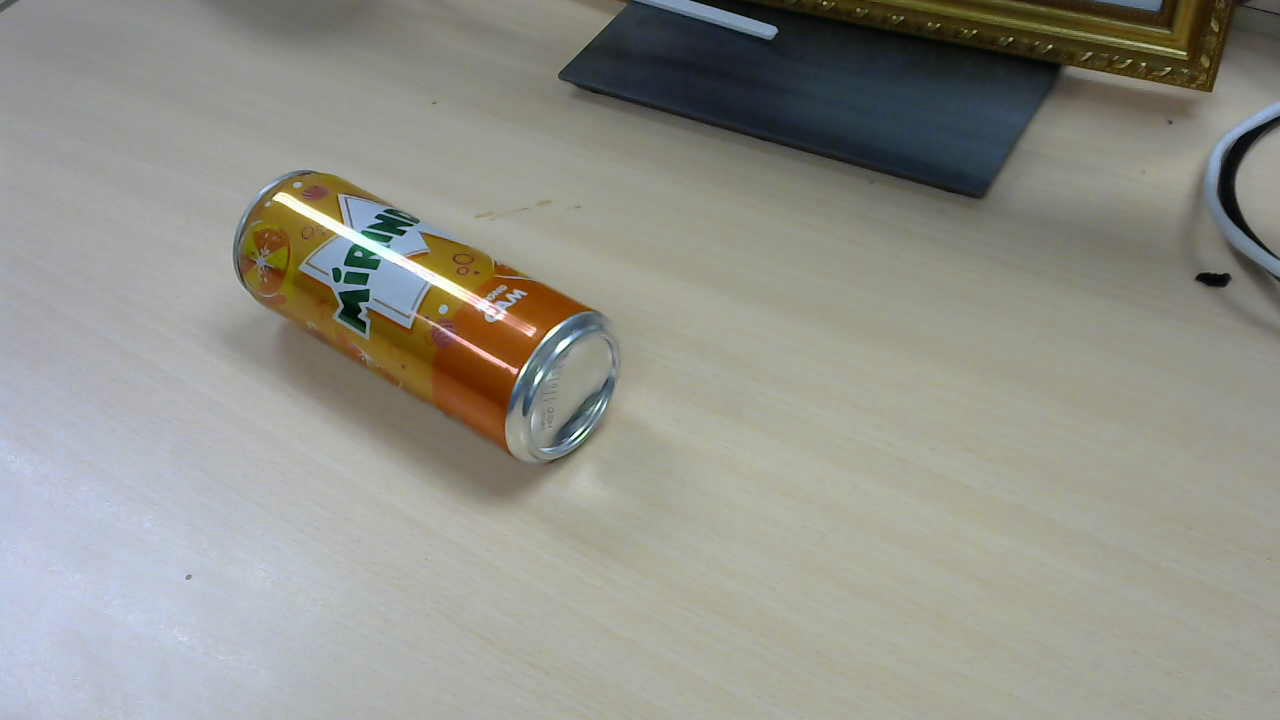Mirinda: (238, 173, 628, 467)
